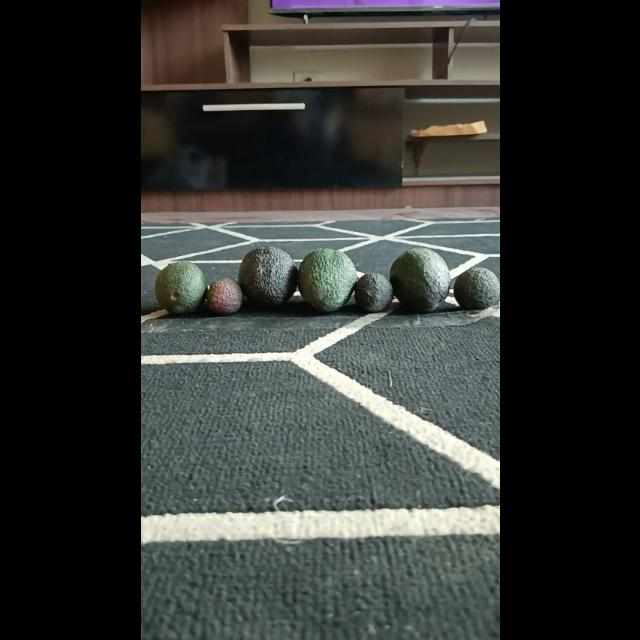Primera: (389, 246, 451, 312), (297, 246, 357, 312), (237, 245, 297, 309)
Segunda: (154, 261, 206, 315)
Tercera: (452, 265, 498, 311), (353, 272, 393, 312), (204, 276, 242, 316)
